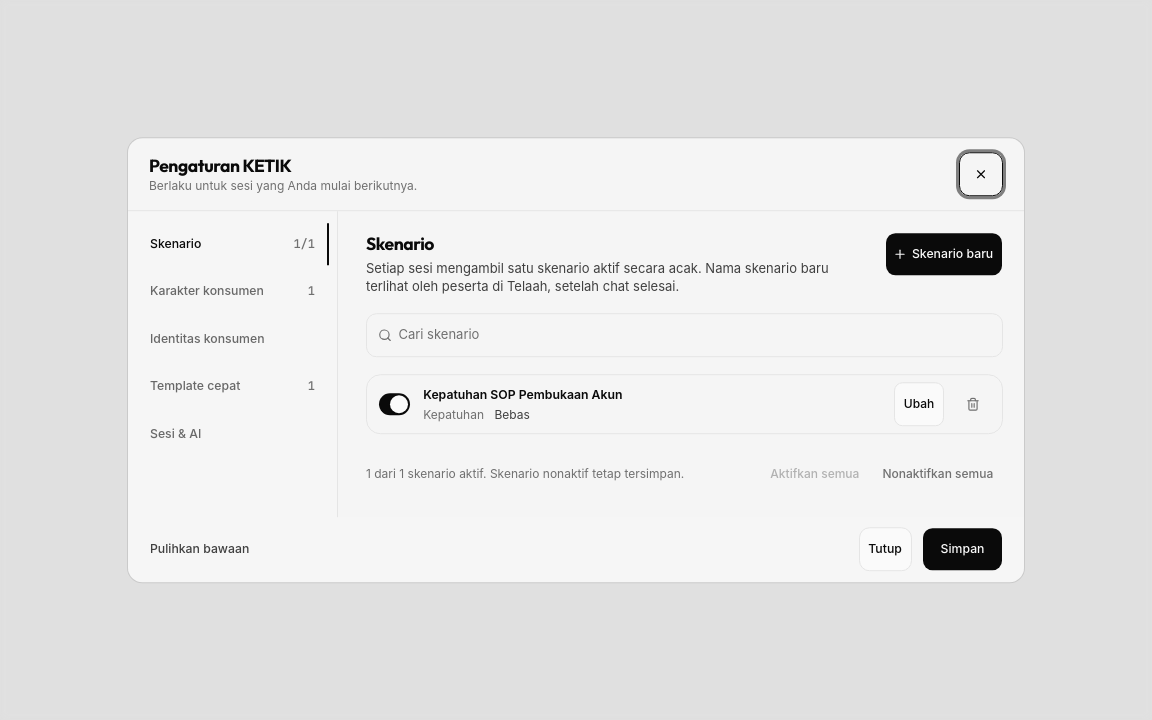
Test case: KETIK SettingsModal Characterization Tests › shows saved custom duration immediately when the system tab is opened
Step 1. Click the tab "Sesi & AI" → (232, 434), box [138,412,326,456]
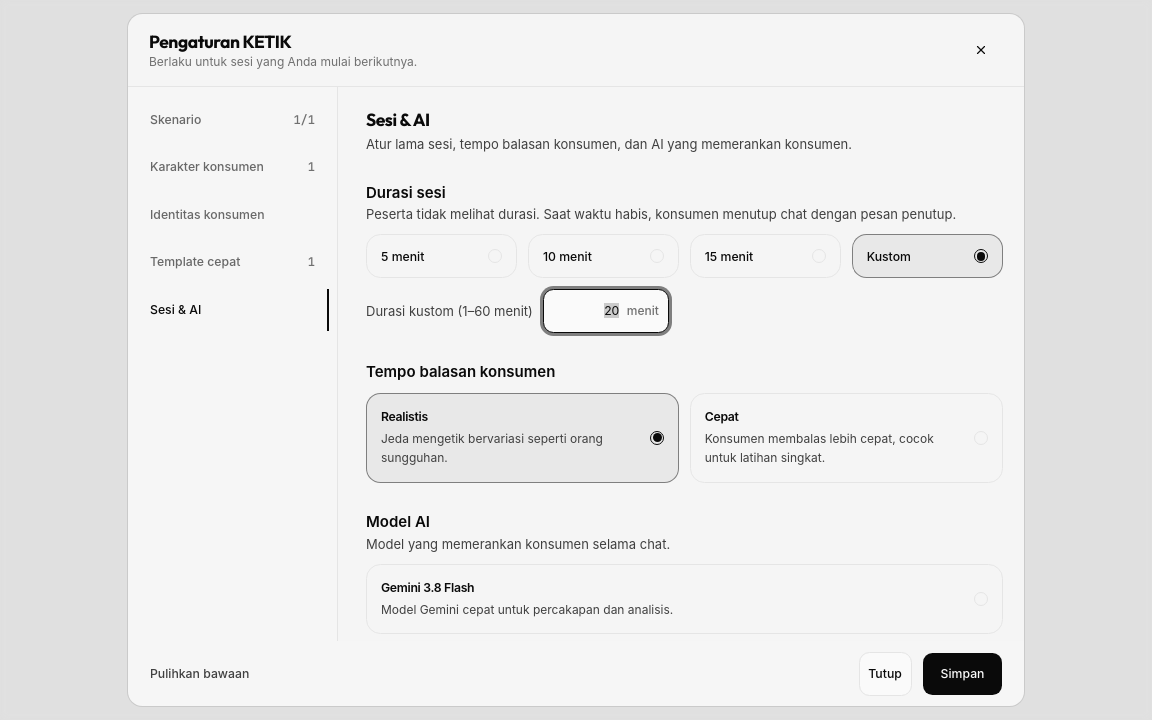
Now the field showing "20" is shown, box [543,289,669,333]
